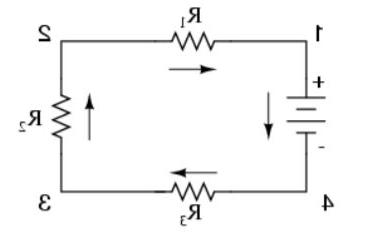Battery: (276, 68, 339, 157)
